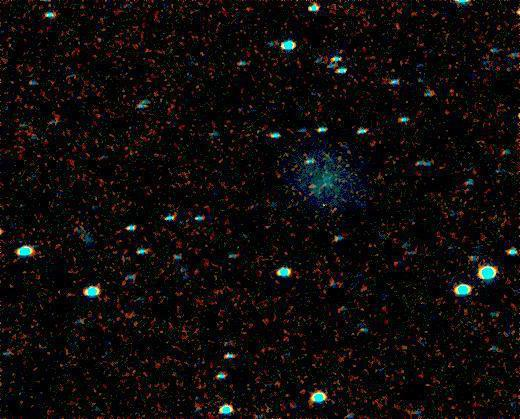star: (253, 207, 283, 237)
